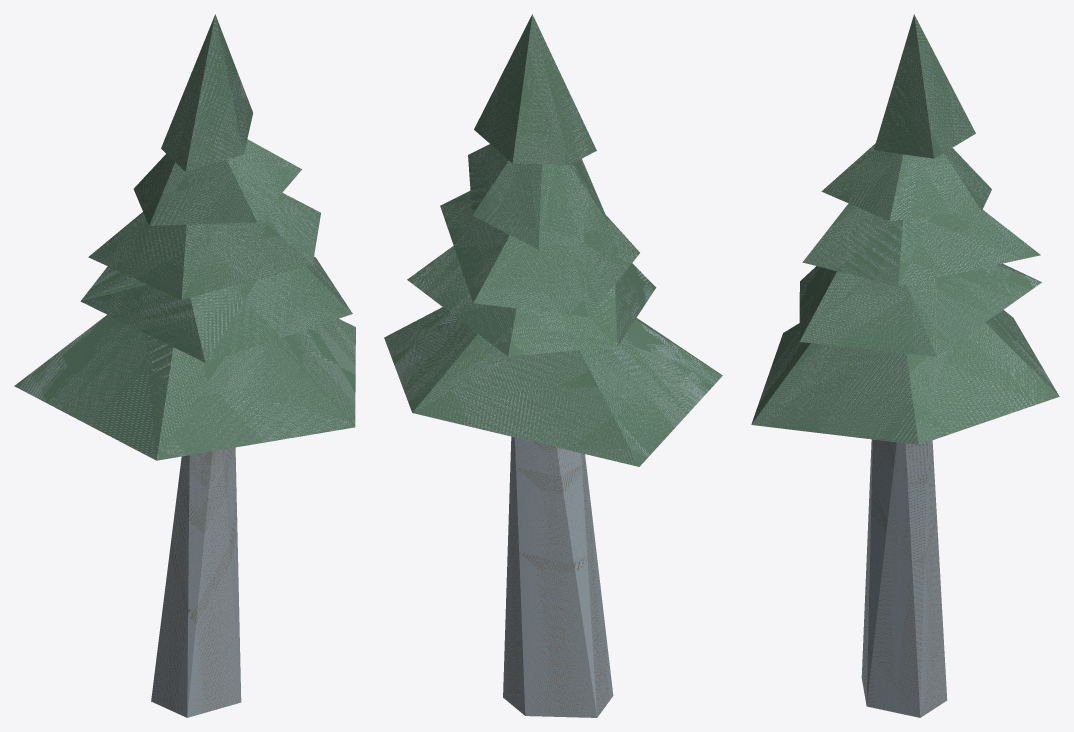
The model's file is Tree_Pine_Tall_01.fbx.
3 views of the same model, side by side, from view 1: azimuth 30°, elevation 25°; view 2: azimuth 150°, elevation 25°; view 3: azimuth 270°, elevation 25° (orthographic). The views are drawn at different scales.
Visible parts, largest first — view 1: Model; view 2: Model; view 3: Model.
Part boxes in pixels (left/top/right/bottom): Model: left=14, top=14, right=355, bottom=717; Model: left=384, top=14, right=722, bottom=717; Model: left=751, top=14, right=1059, bottom=717.
Size of the model in its own units: 454 by 987 by 399.
